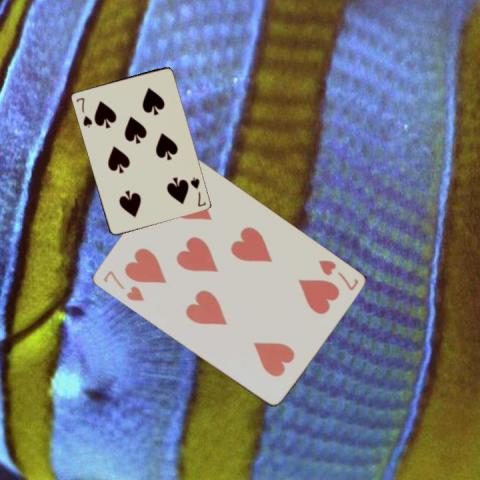7h: (100, 268, 146, 304), (315, 257, 360, 292)
7s: (187, 174, 207, 208), (73, 95, 93, 128)
